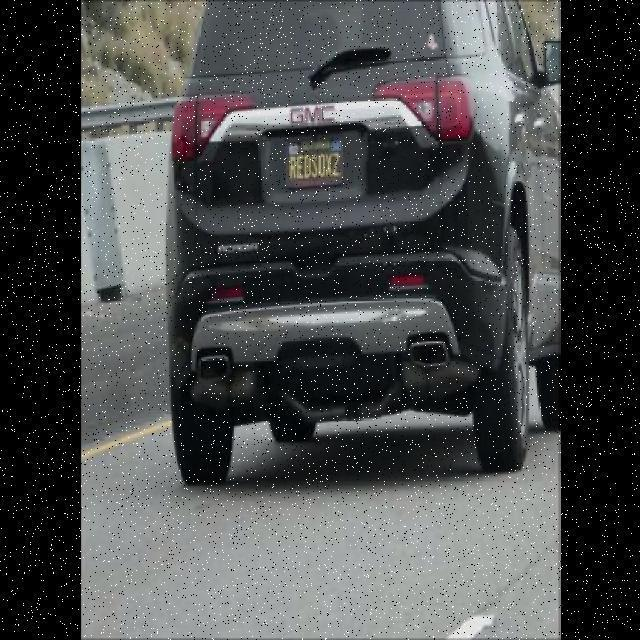LicensePlate: (288, 135, 344, 191)
